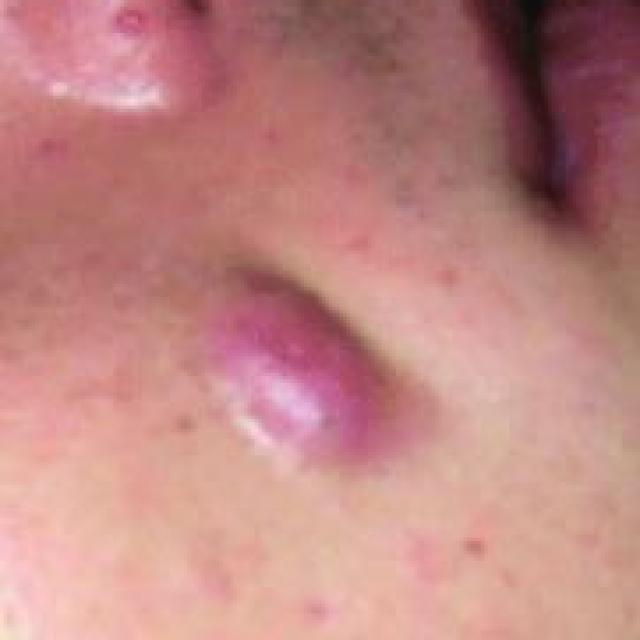nodule: (142, 270, 402, 506)
